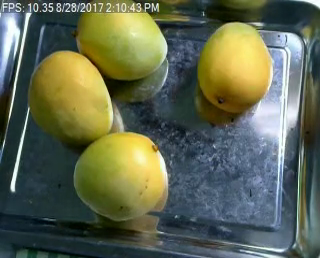Mango: (72, 131, 168, 222), (27, 51, 111, 143), (78, 0, 165, 79), (198, 24, 270, 109)
